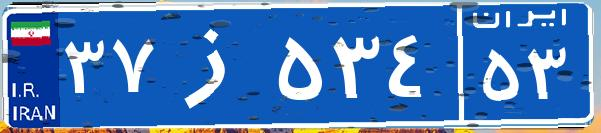3: (330, 28, 385, 110), (57, 26, 110, 107), (525, 38, 570, 115)
4: (385, 28, 445, 110)
5: (273, 28, 330, 110), (475, 38, 525, 113)
7: (110, 28, 158, 105)
ز: (158, 15, 273, 115)
